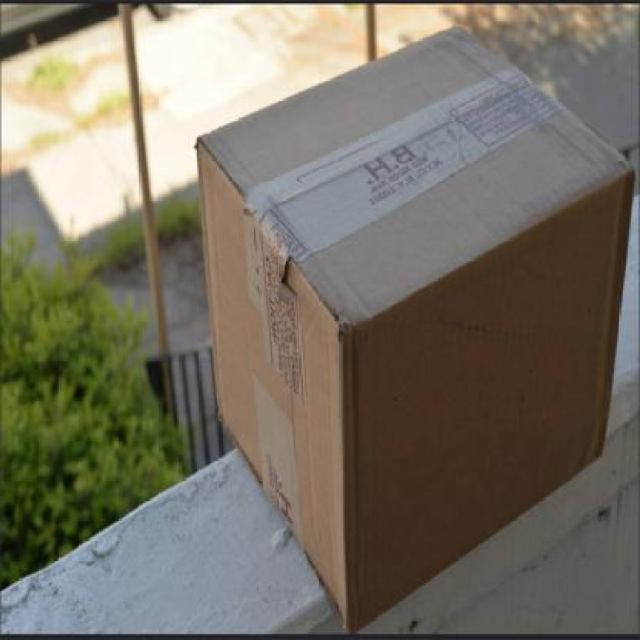cardboxes: (192, 20, 637, 632)
